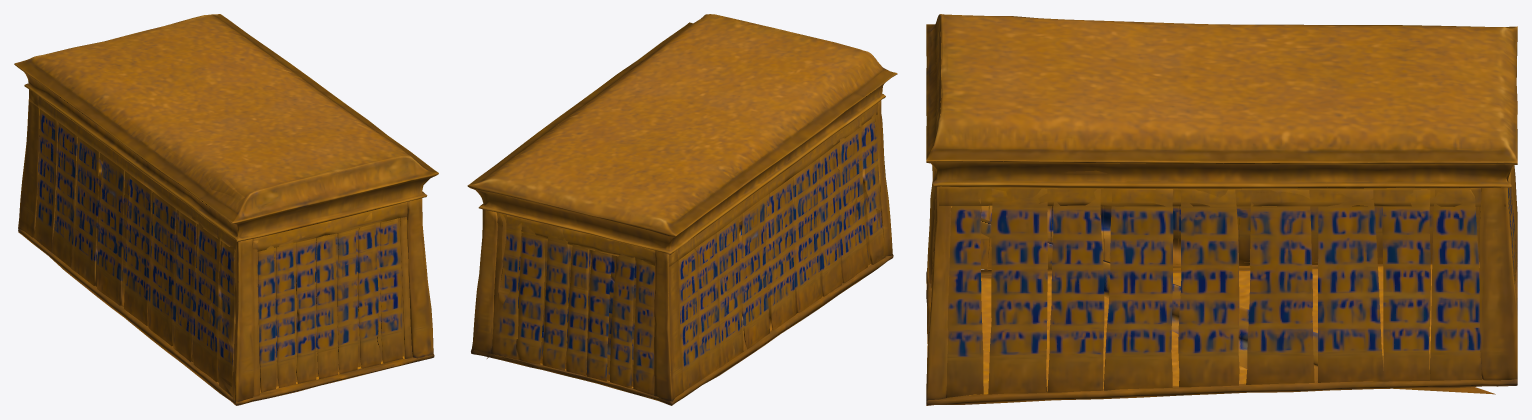
File: burial-shrine-207-ai.glb
3 renders of one model, left to right at view 1: azimuth 30°, elevation 25°; view 2: azimuth 150°, elevation 25°; view 3: azimuth 270°, elevation 25°, orthographic. The views are drawn at different scales.
Parts seen in each view (by area): view 1: geometry_0; view 2: geometry_0; view 3: geometry_0.
Boxes of the visible parts, x1,y1,x2,y2 form: geometry_0: [14, 14, 438, 405]; geometry_0: [467, 14, 897, 405]; geometry_0: [926, 14, 1517, 405].
Bounding box in the file's own units: 0.5505 × 0.5194 × 1.
Materials: 1 (1 with a texture image).
